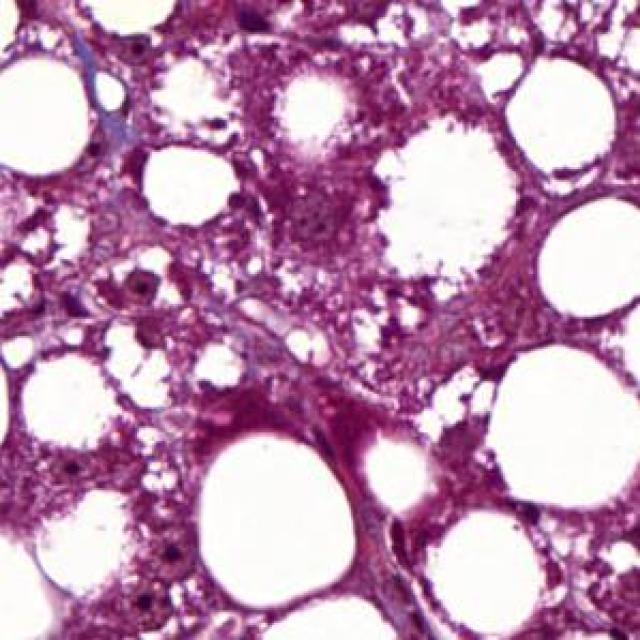steatosis: (199, 430, 360, 608)
